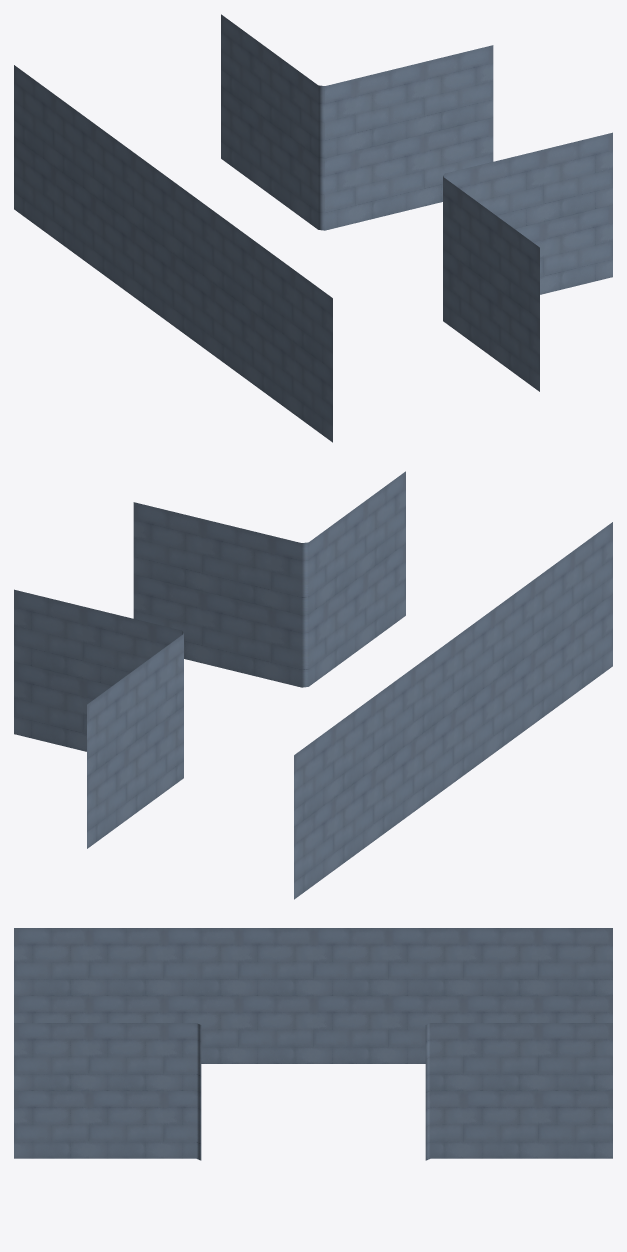
File: Tile3Hallway.fbx
3 views of the same model, one above another, from view 1: azimuth 30°, elevation 25°; view 2: azimuth 150°, elevation 25°; view 3: azimuth 270°, elevation 25° (orthographic). The views are drawn at different scales.
Visible parts, largest first — view 1: Tile3Hallway; view 2: Tile3Hallway; view 3: Tile3Hallway.
Part boxes in pixels (x1,y1,x2,y2): Tile3Hallway: [14, 14, 612, 442]; Tile3Hallway: [14, 471, 612, 899]; Tile3Hallway: [14, 928, 612, 1160].
Size of the model in its own units: 11 by 4 by 16.
